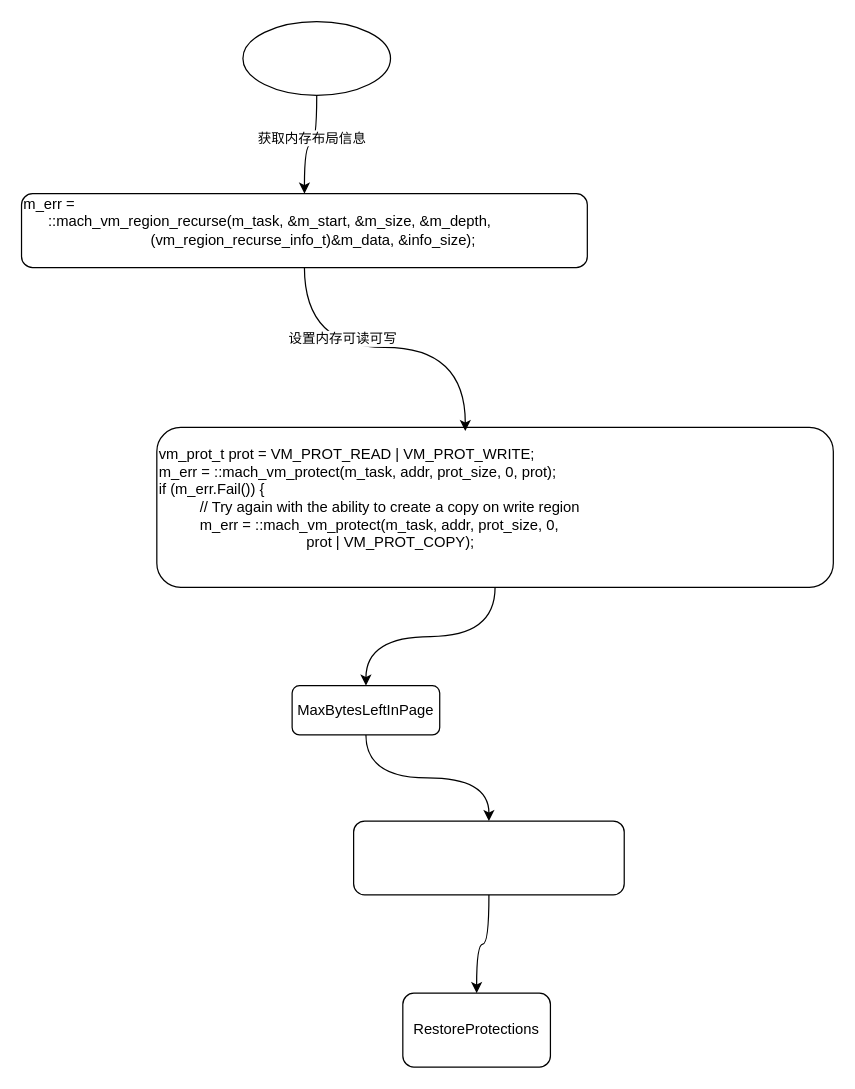
This 855x1089 diagram has some shape labels left out. Each missing label, with the box of its shape:
::mach_vm_write(task, curr_addr, (pointer_t)curr_data, curr_data_count);: (352, 820, 624, 895)
WriteMemory: (242, 20, 391, 95)
